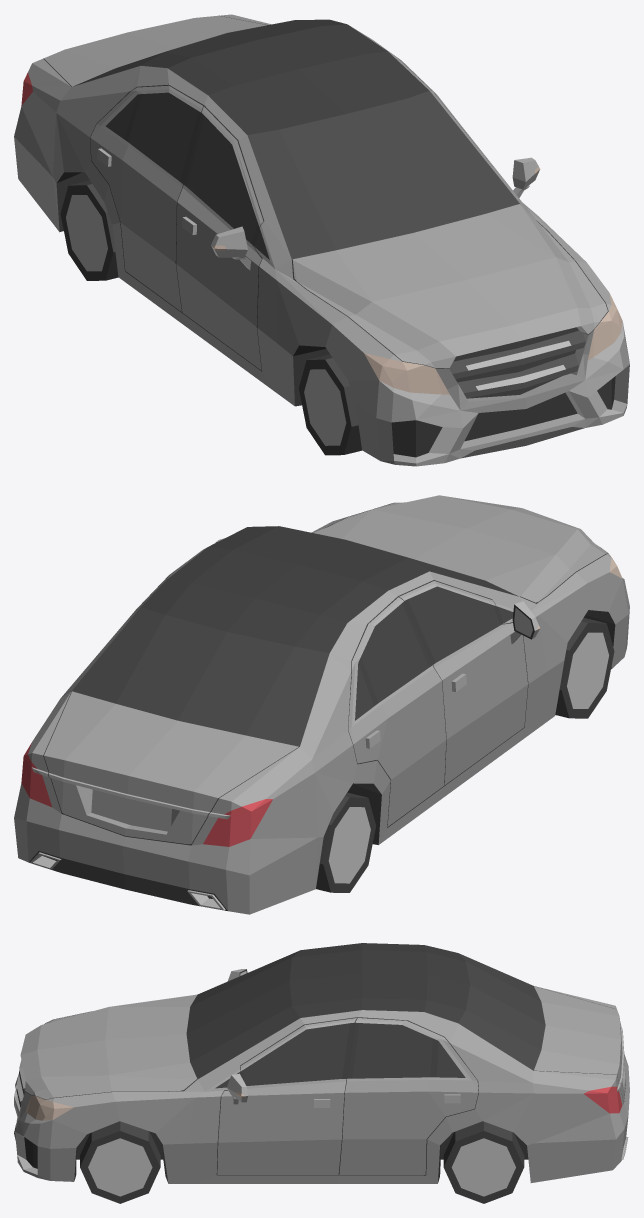
File: CarSedan2Gray.fbx
3 views of the same model, one above another, from view 1: azimuth 30°, elevation 25°; view 2: azimuth 150°, elevation 25°; view 3: azimuth 270°, elevation 25° (orthographic). The views are drawn at different scales.
Parts seen in each view (by area): view 1: Cube, wheel_fr, wheel_rr; view 2: Cube, wheel_rr, wheel_fr; view 3: Cube, wheel_rl, wheel_fl.
Boxes of the visible parts, x1=… form: Cube: x1=14, y1=14, x2=629, y2=466; wheel_fr: x1=299, y1=354, x2=361, y2=455; wheel_rr: x1=60, y1=180, x2=118, y2=280; Cube: x1=14, y1=495, x2=629, y2=914; wheel_rr: x1=316, y1=792, x2=375, y2=892; wheel_fr: x1=555, y1=617, x2=614, y2=718; Cube: x1=14, y1=943, x2=629, y2=1183; wheel_rl: x1=443, y1=1121, x2=524, y2=1203; wheel_fl: x1=80, y1=1121, x2=160, y2=1203.
Size of the model in its own units: 2.38 by 1.66 by 5.11.
